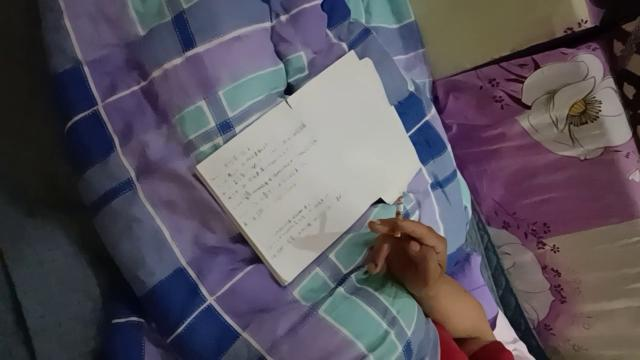Smoking: (394, 196, 404, 238)
